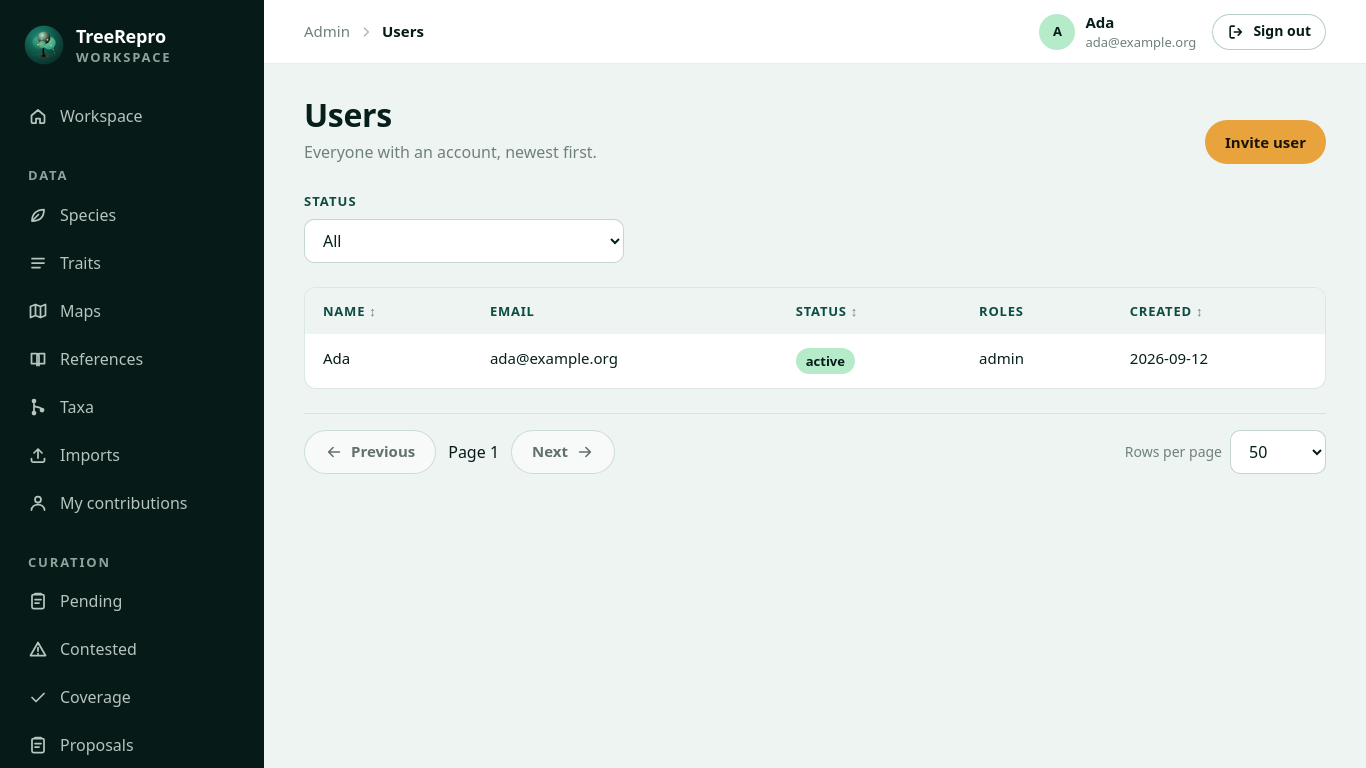
Test: RFC-13 R2, RFC-50 R2 UsersPage › RFC-50 R3 MAIL_SEND_FAILED closes the dialog with the resend hint; USER_EMAIL_TAKEN is a field error
Expected: the heading "Users" is shown, x1=304 y1=93 x2=392 y2=136
Expected: the table is shown, x1=305 y1=288 x2=1325 y2=388
Step 1. Click the button "Invite user" → (1265, 142), box x1=1205 y1=120 x2=1326 y2=164
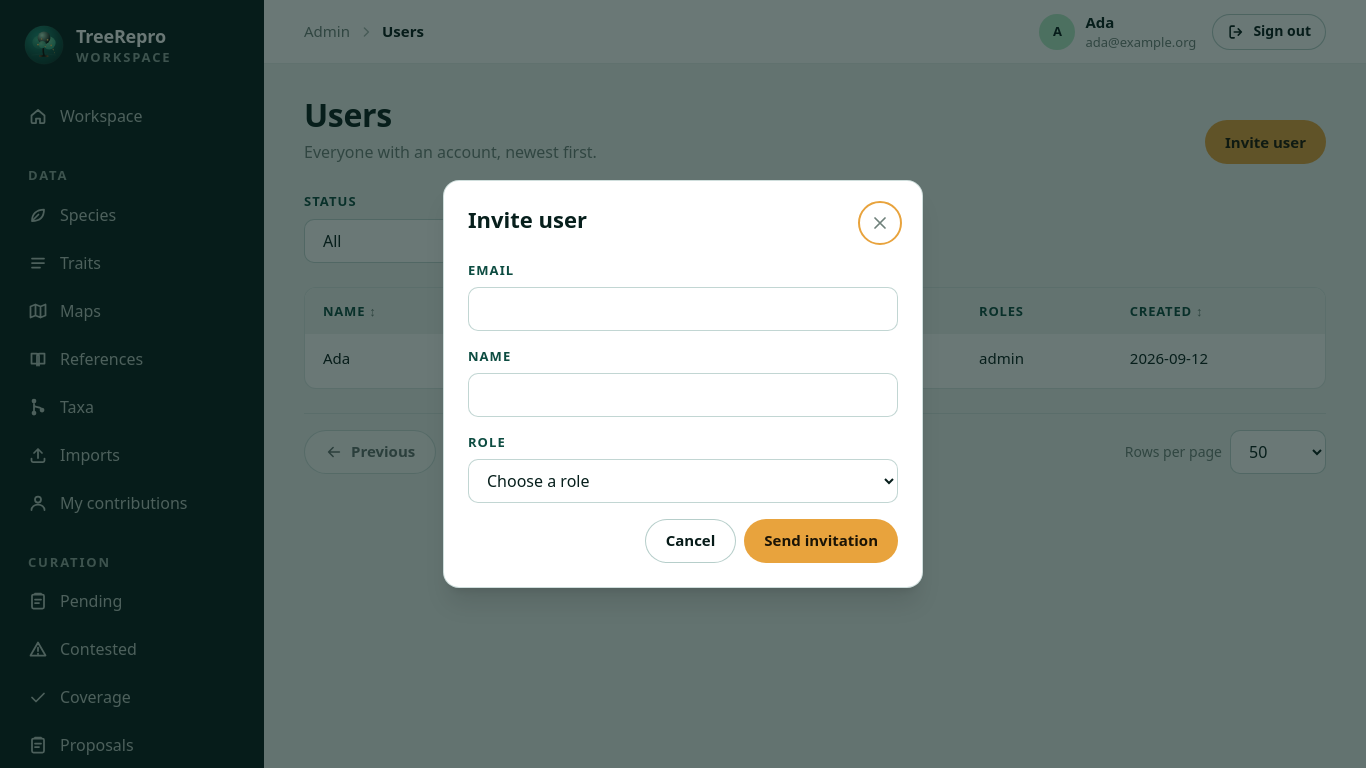
Step 2. Type "ada@example.org" into the field labelled "Email" → (683, 309), box x1=468 y1=287 x2=898 y2=331
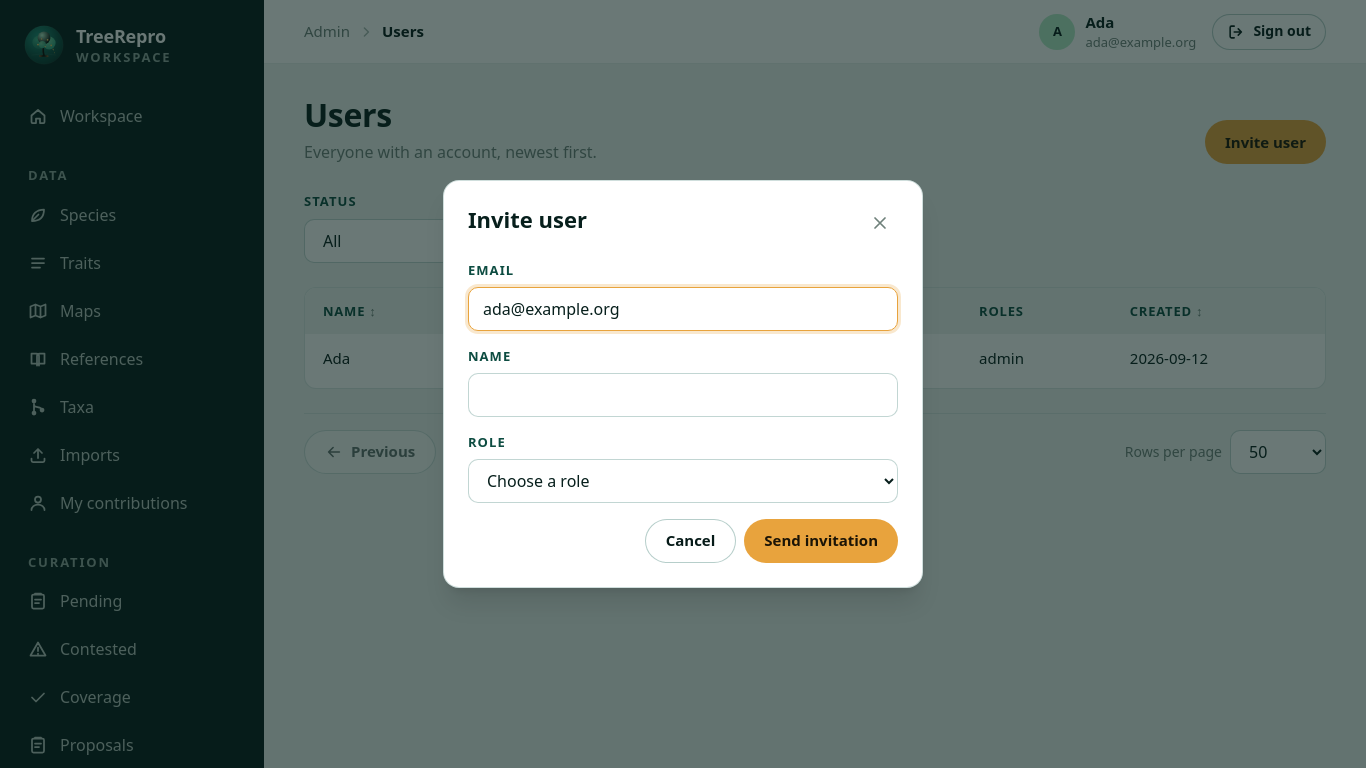
Step 3. Type "Ada" into the field labelled "Name" → (683, 395), box x1=468 y1=373 x2=898 y2=417
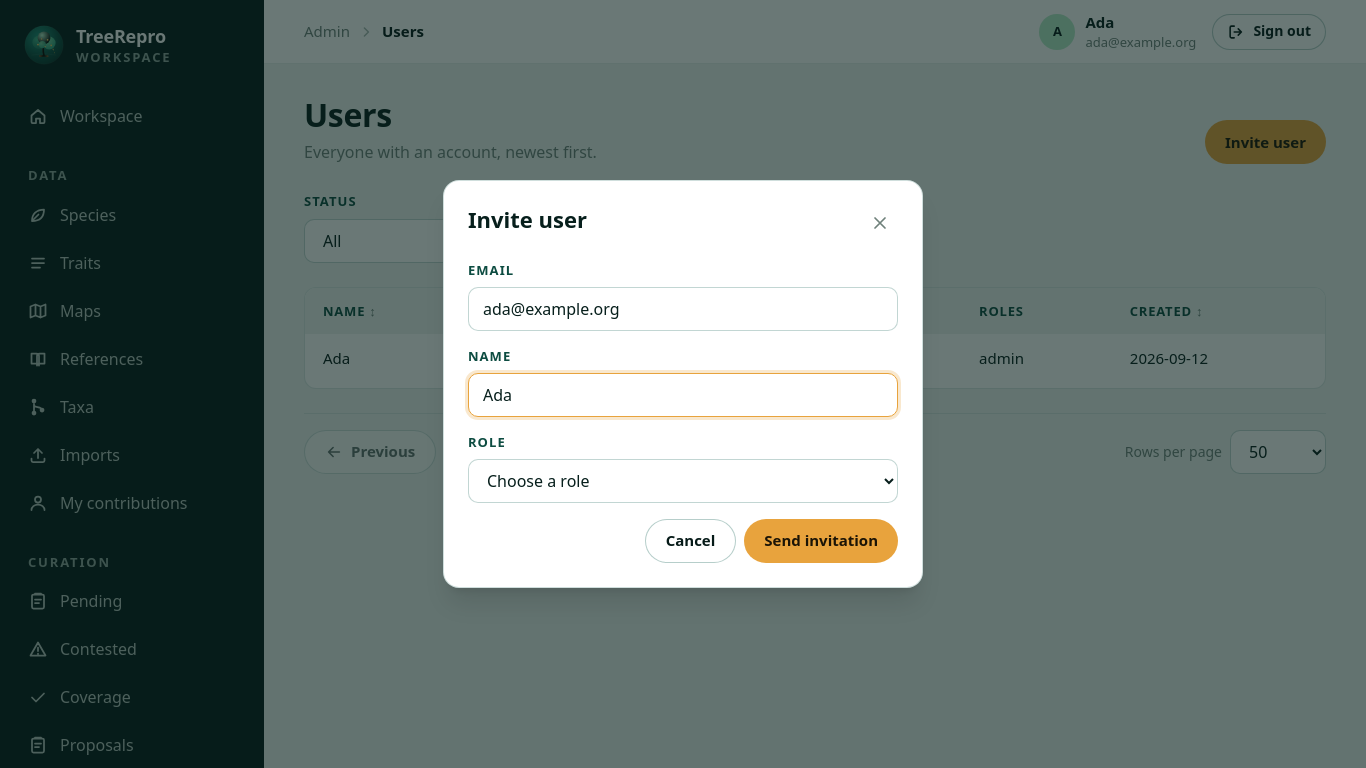
Step 4. Select "Readers" in the dropdown labelled "Role" → (683, 481), box x1=468 y1=459 x2=898 y2=503
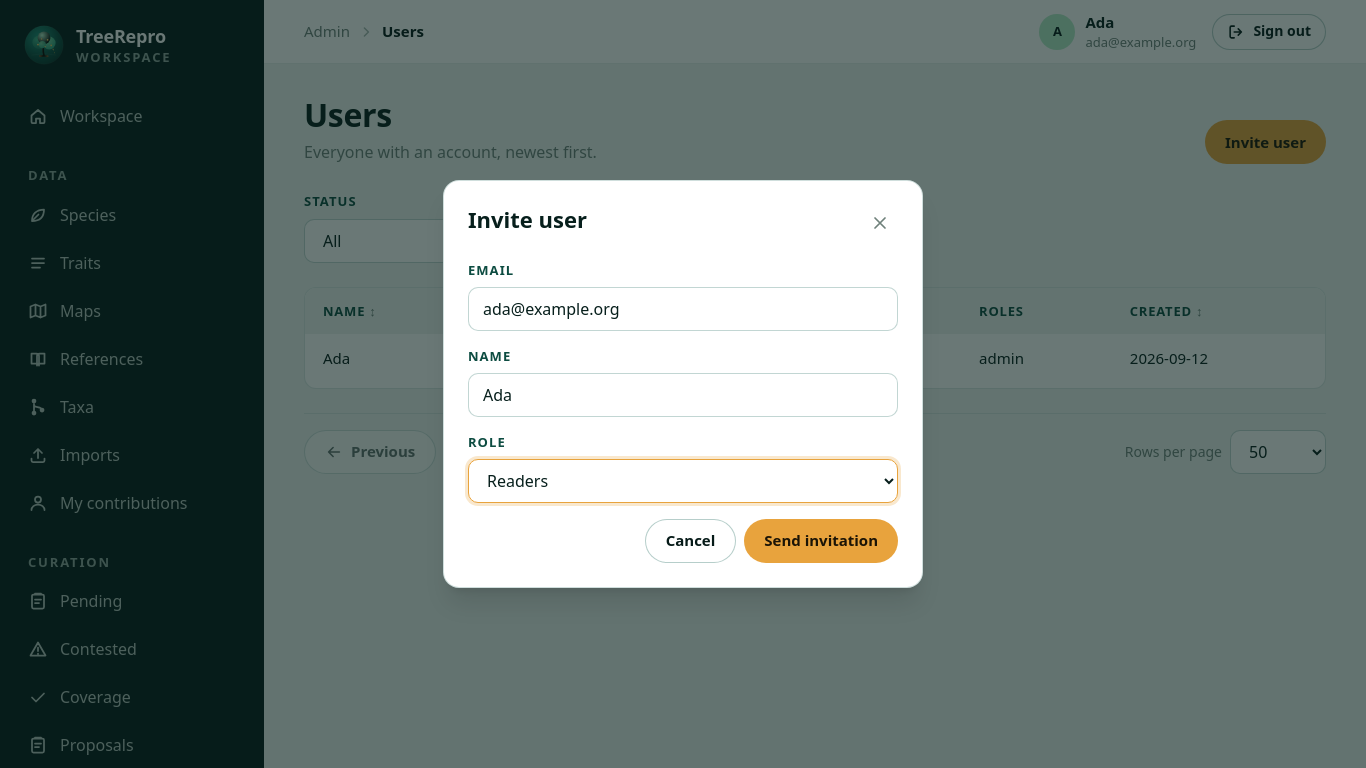
Step 5. Click the button "Send invitation" → (821, 541), box x1=744 y1=519 x2=898 y2=563
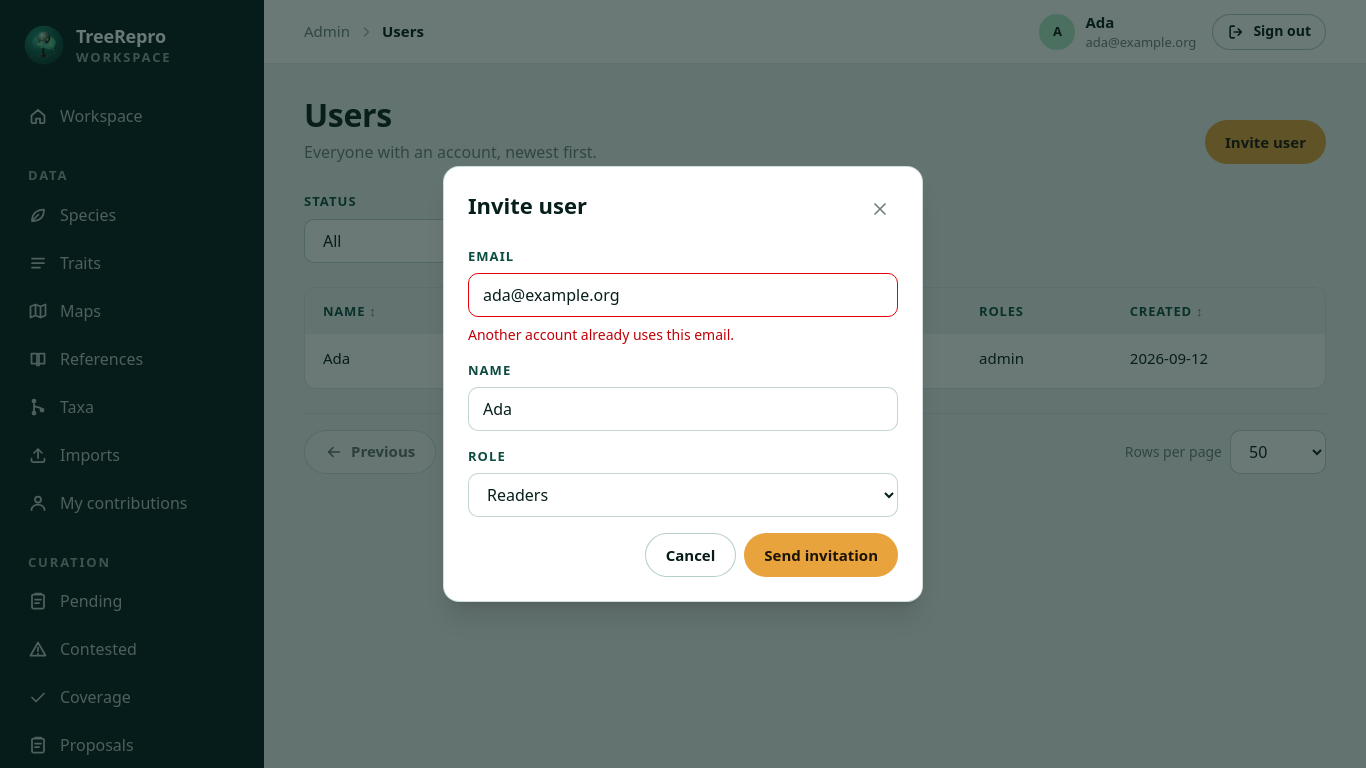
Expected: the text "Another account already uses this email." is shown, x1=468 y1=325 x2=734 y2=344
Step 6. Click the button "Send invitation" → (821, 555), box x1=744 y1=533 x2=898 y2=577
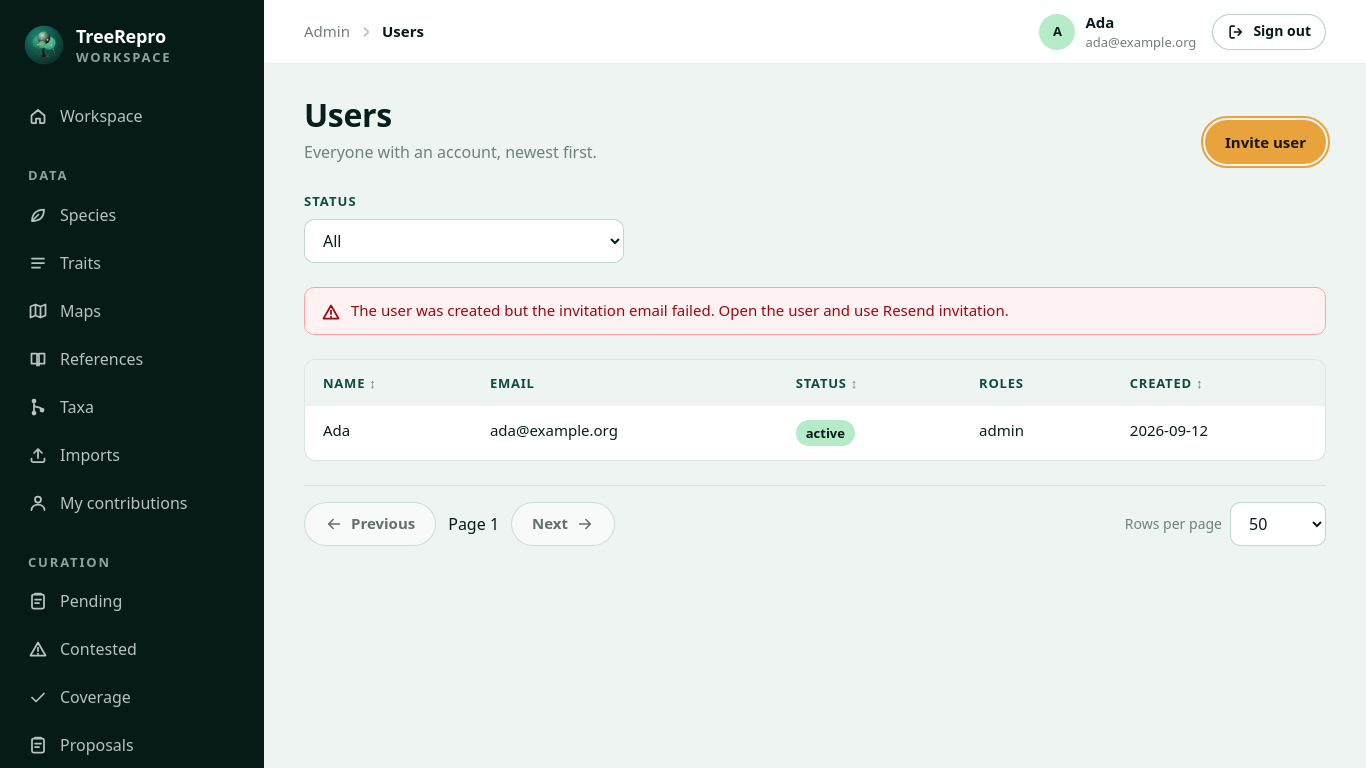
Expected: the message shows "The user was created but the invitation email failed. Open the user and use Resend invitation.", x1=351 y1=300 x2=1009 y2=320
Expected: the dialog is gone
